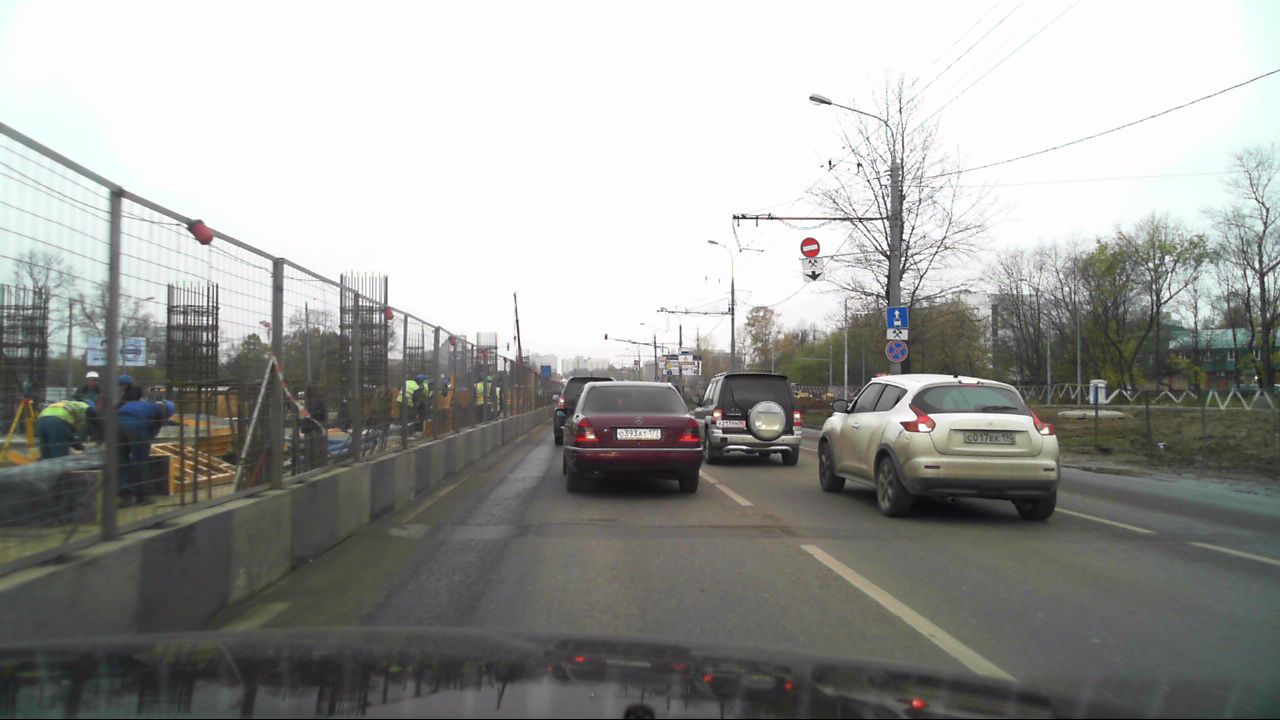No Parking: (884, 340, 907, 362)
